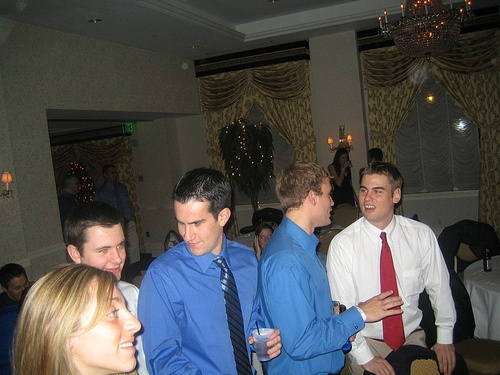head: (26, 267, 147, 375), (168, 167, 236, 256), (61, 204, 126, 282), (274, 161, 335, 233), (357, 163, 402, 221), (1, 260, 30, 302), (252, 222, 275, 258), (61, 176, 81, 200), (100, 164, 120, 187)
person: (324, 160, 496, 370), (257, 161, 395, 370), (138, 166, 271, 375), (1, 260, 194, 375), (59, 202, 138, 319), (92, 160, 141, 264), (1, 260, 33, 374), (57, 175, 79, 224)
